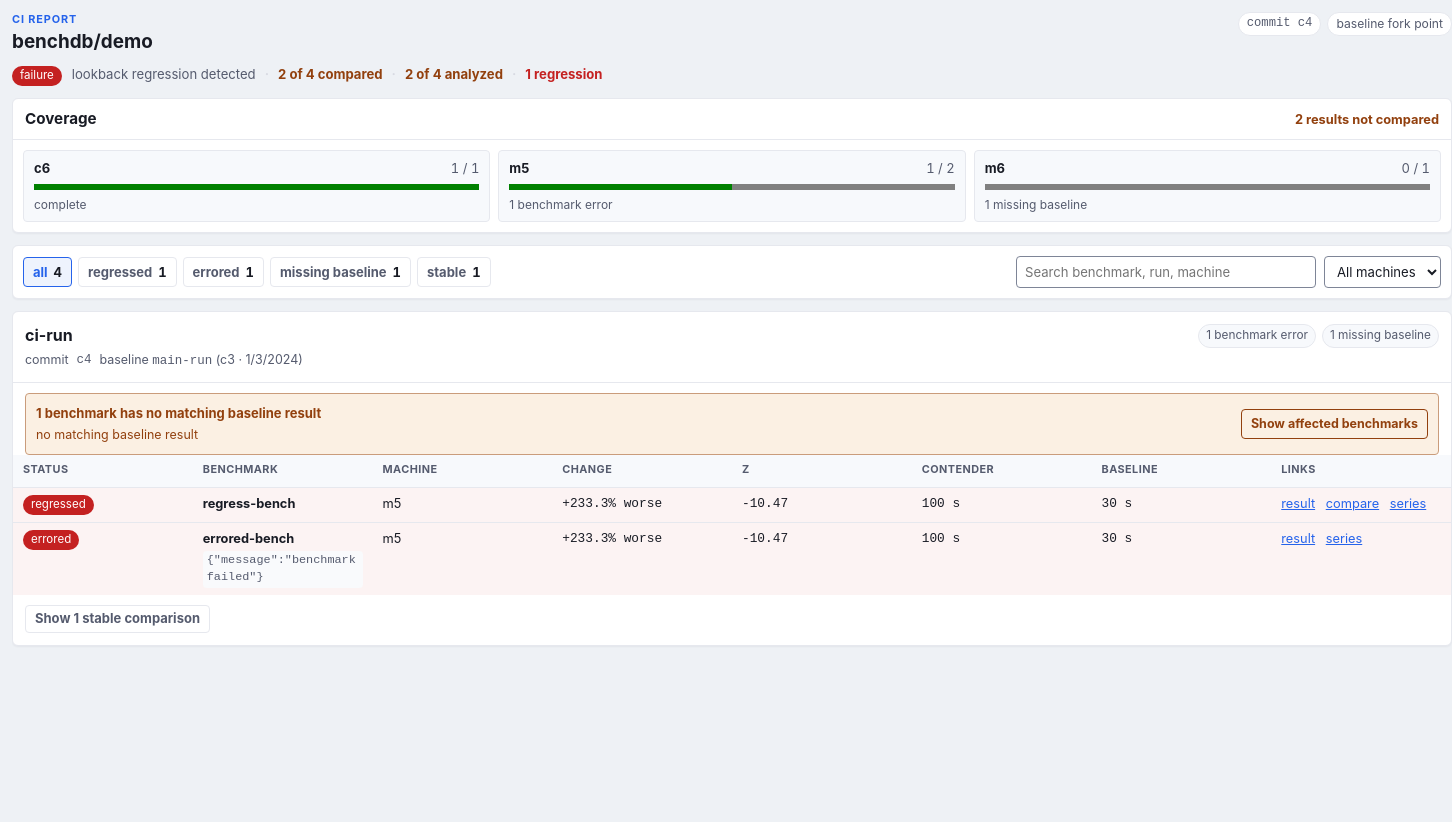
Test: CIReportPage › renders filters, coverage gaps, and regressions first
expect the button "all 4" is shown: met, box [23,257,72,287]
expect the search field named "search comparisons" is shown: met, box [1016,256,1316,288]
Click the button "Show affected benchmarks" at (1334, 424), box [1241,409,1428,439]
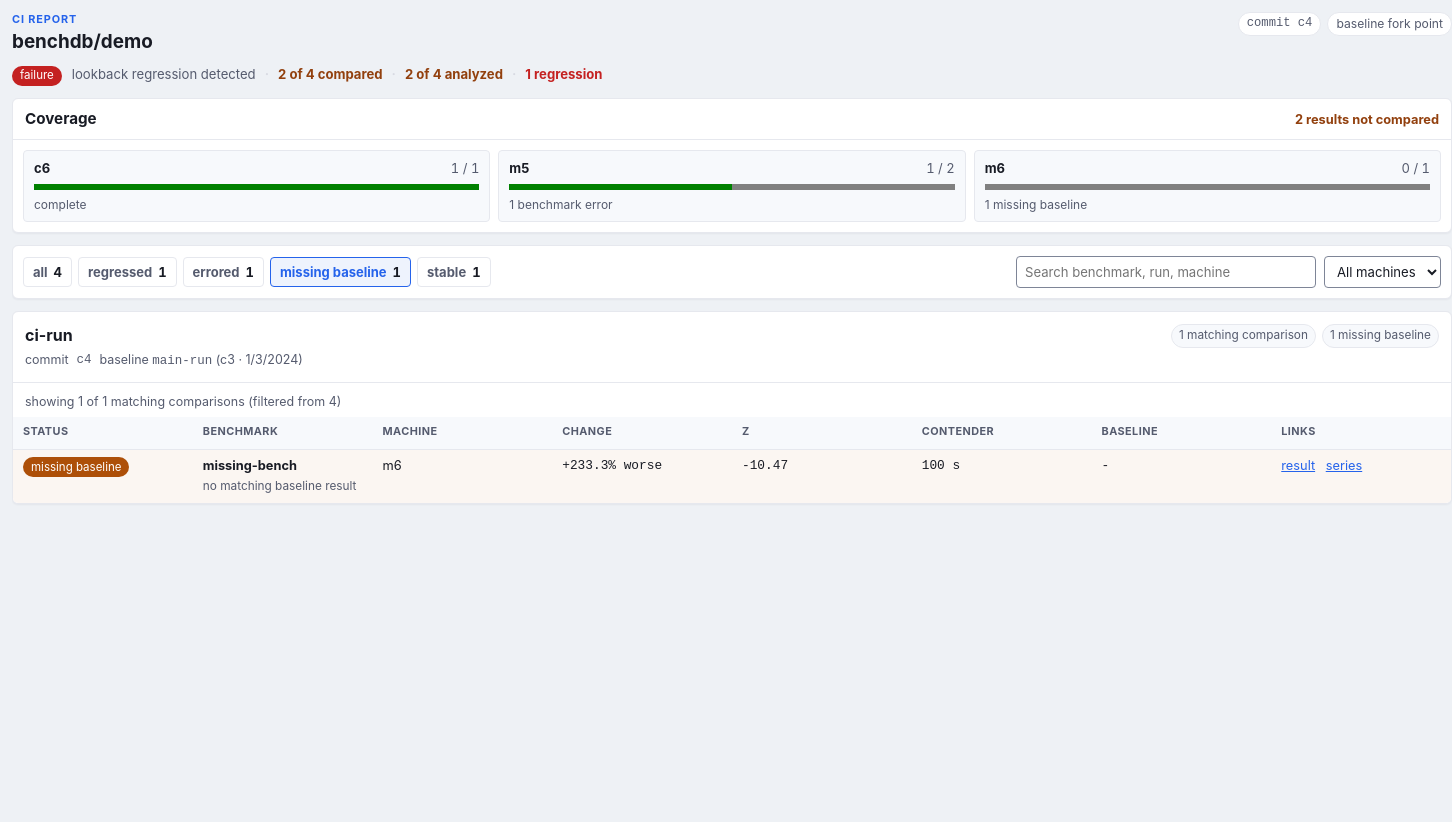
expect the text "missing-bench" is shown: met, box [203,458,297,473]
